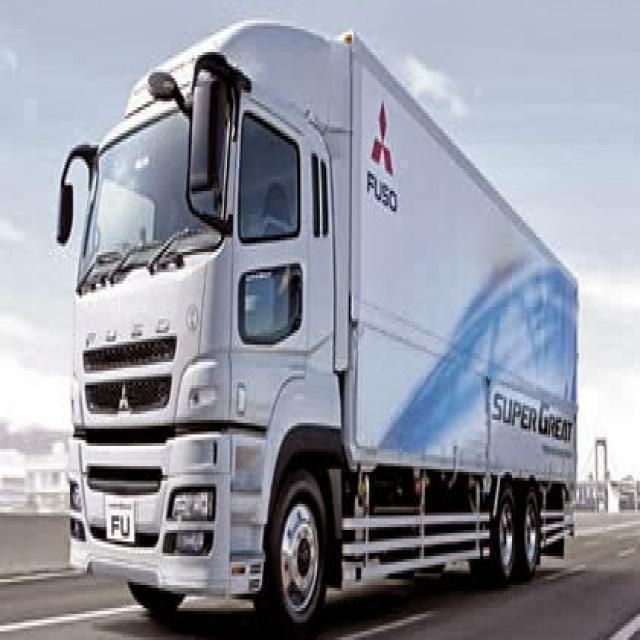Truck: (54, 12, 578, 626)
